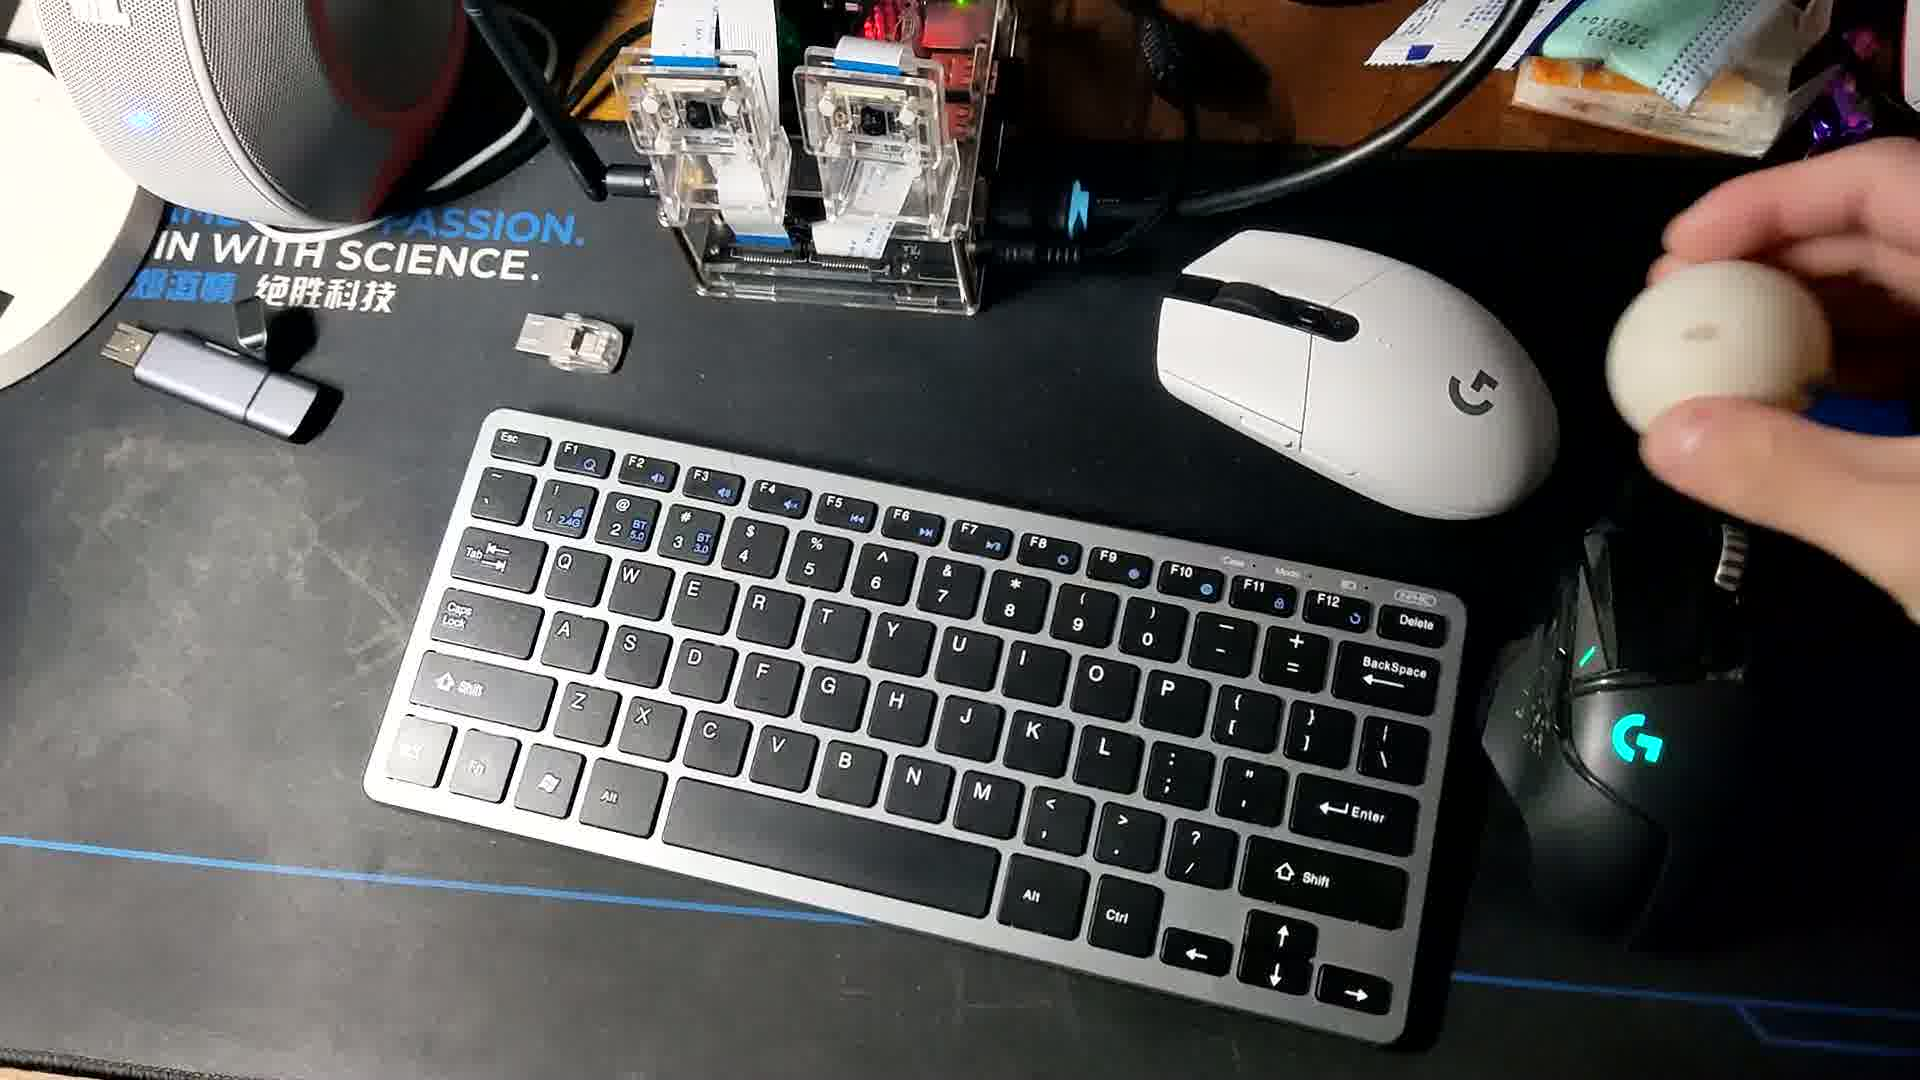Ball: (1604, 262, 1833, 480)
